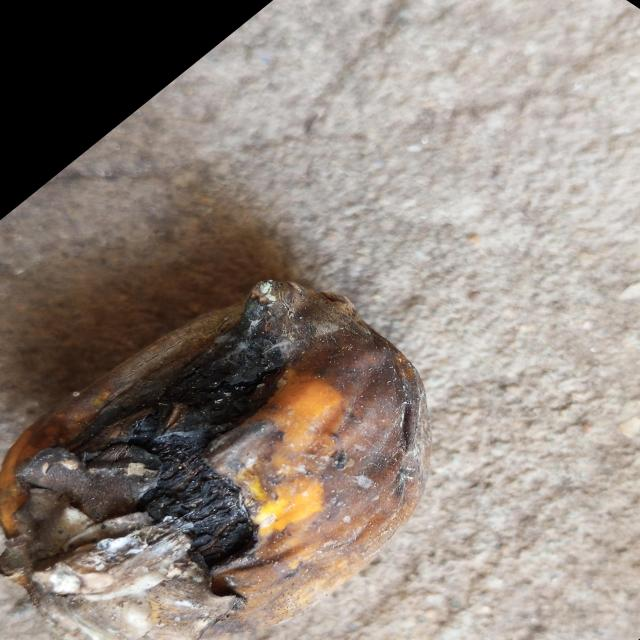damaged: (0, 281, 426, 640)
